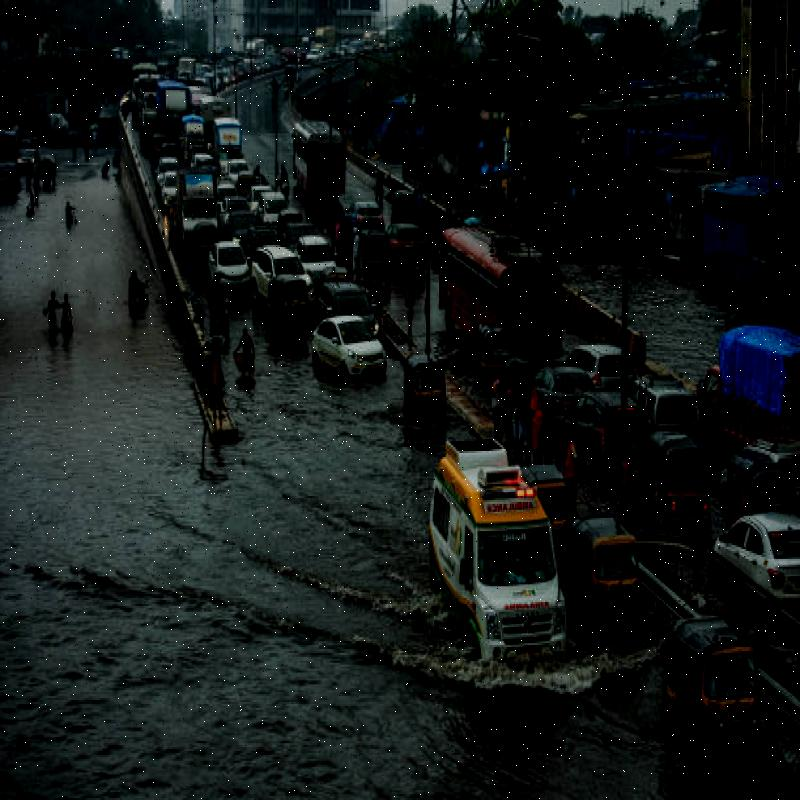ambulance: (429, 456, 572, 652)
